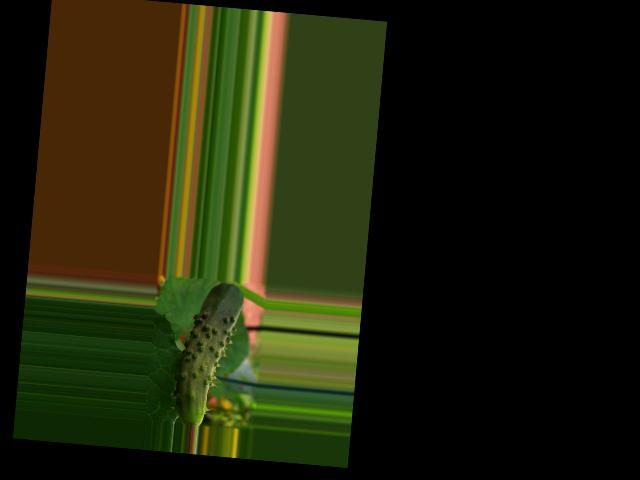cucumber: (170, 278, 244, 428)
